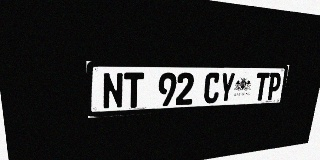2: (176, 72, 194, 105)
9: (158, 72, 177, 106)
C: (203, 72, 221, 104)
N: (102, 72, 123, 109)
P: (266, 73, 282, 100)
T: (124, 72, 144, 108), (253, 73, 270, 101)
Y: (218, 72, 236, 103)
